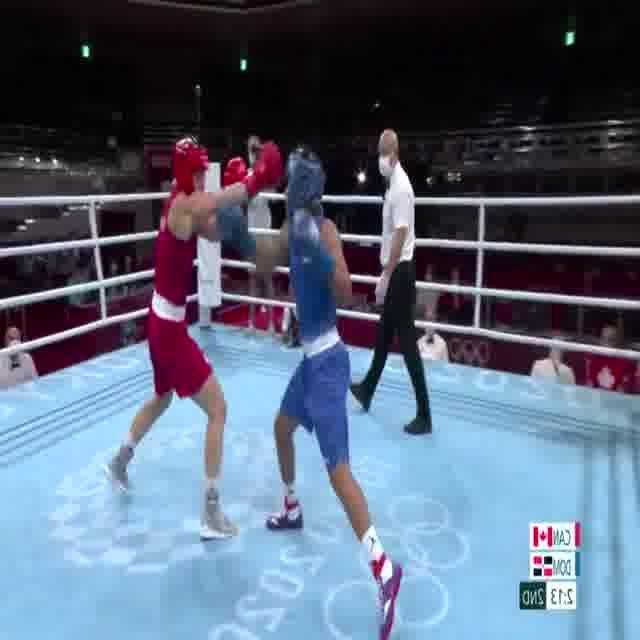blue-player: (211, 138, 404, 640)
red-player: (105, 135, 288, 542)
referee: (346, 126, 435, 436)
